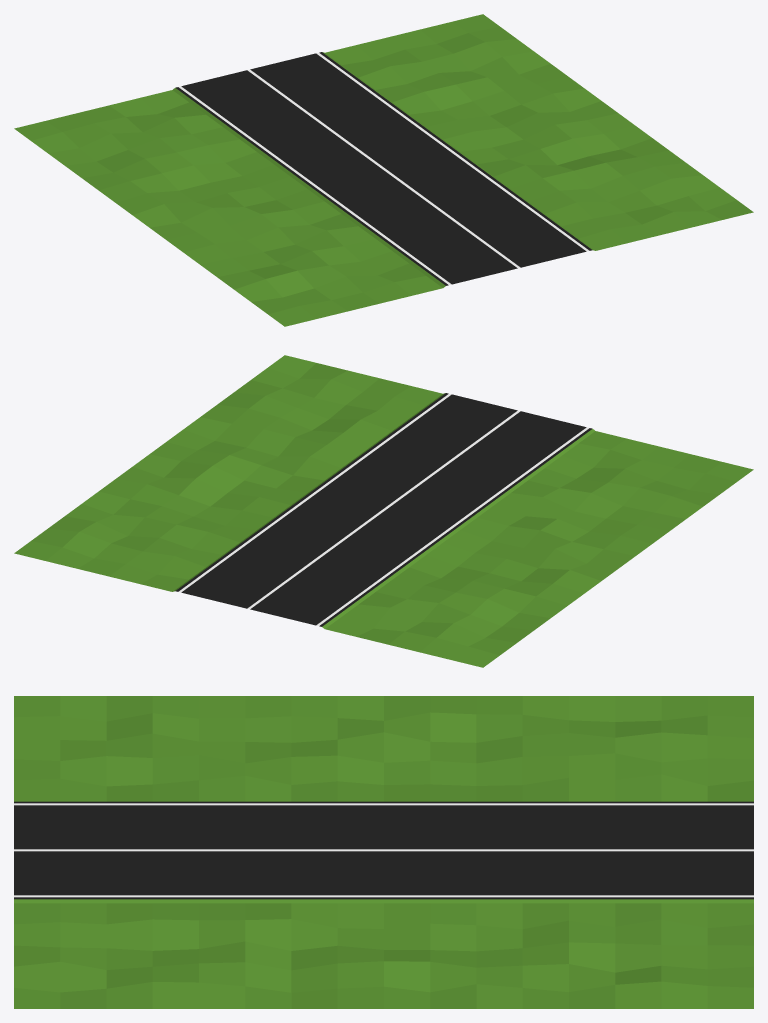
The model's file is street_I_land.fbx.
3 views of the same model, one above another, from view 1: azimuth 30°, elevation 25°; view 2: azimuth 150°, elevation 25°; view 3: azimuth 270°, elevation 25° (orthographic). The views are drawn at different scales.
Parts seen in each view (by area): view 1: street_I_land; view 2: street_I_land; view 3: street_I_land.
Boxes of the visible parts, left/top/right/bottom form: street_I_land: left=14, top=14, right=753, bottom=326; street_I_land: left=14, top=355, right=753, bottom=667; street_I_land: left=14, top=696, right=753, bottom=1008.
Size of the model in its own units: 3200 by 58.78 by 3200.
